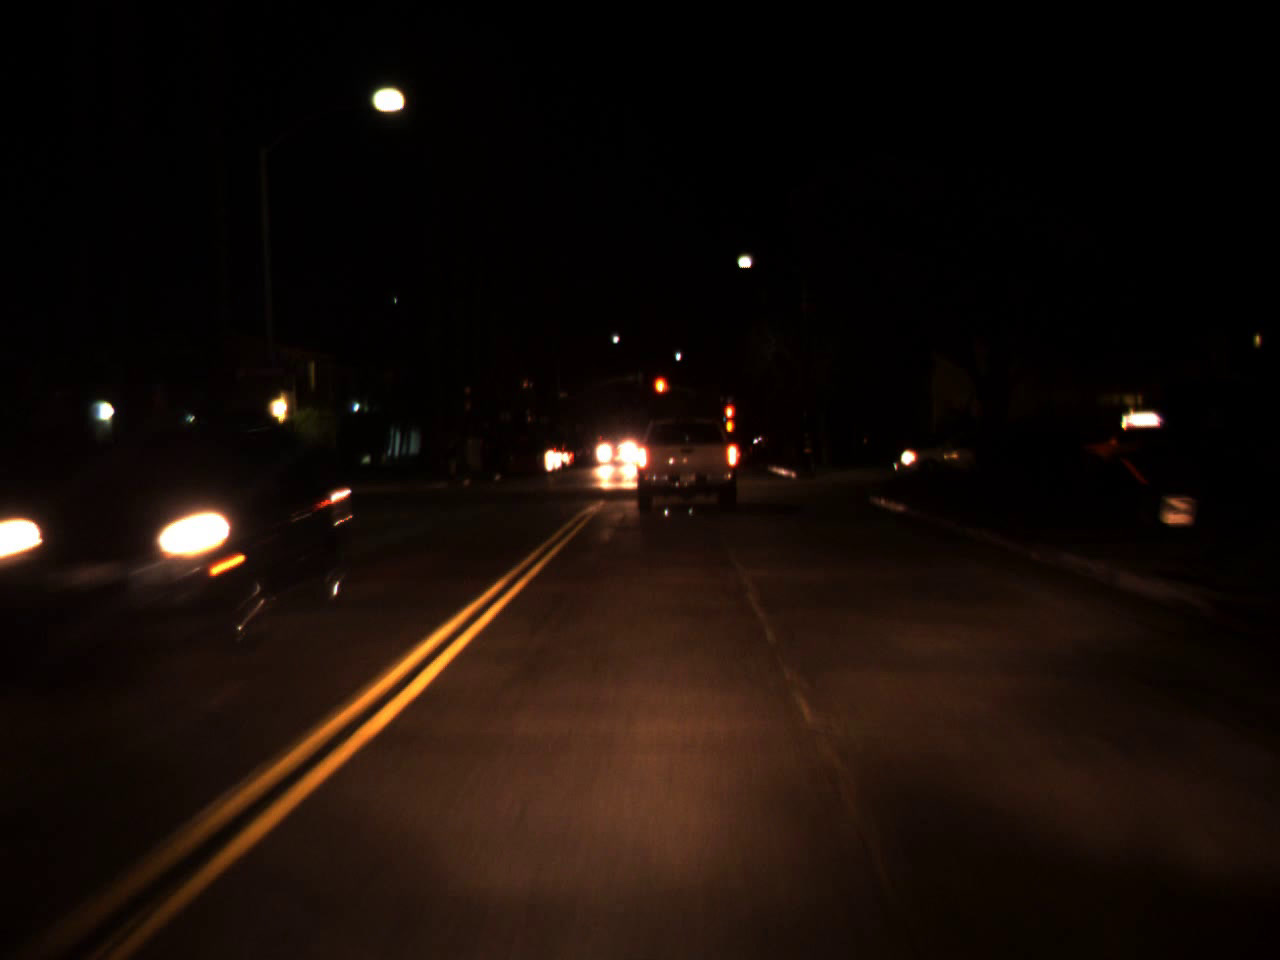stop: (652, 374, 670, 411), (722, 403, 735, 435)
